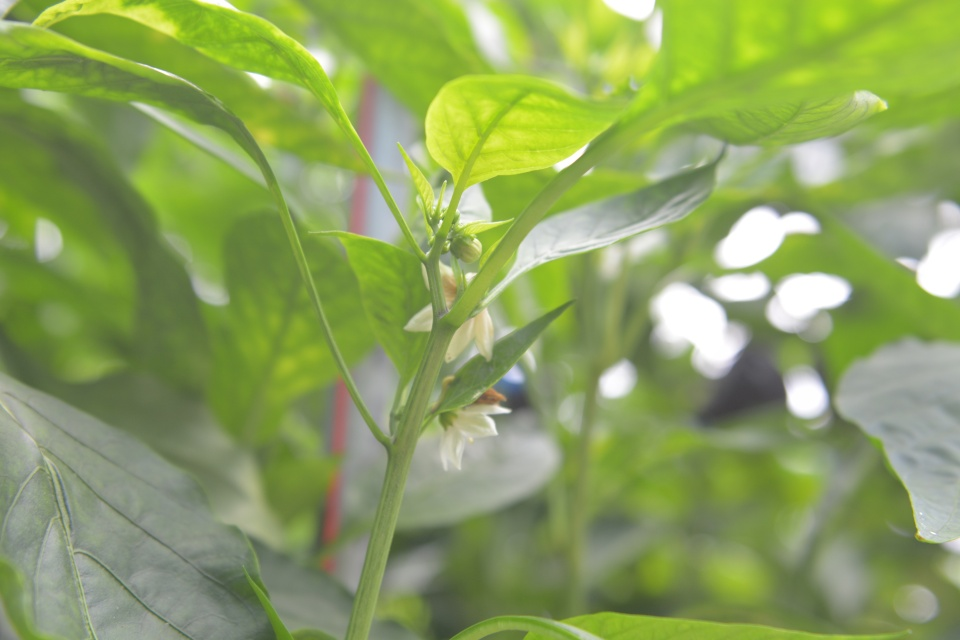flower: (404, 256, 497, 364), (438, 401, 512, 471)
